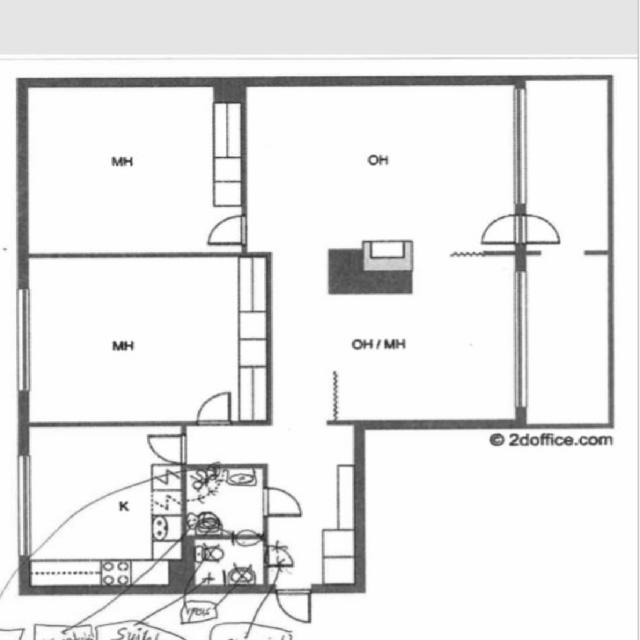door: (476, 211, 565, 245), (140, 428, 190, 467), (258, 483, 306, 521), (191, 388, 235, 428), (201, 212, 251, 246), (273, 587, 314, 624), (260, 544, 294, 570)
window: (506, 267, 536, 414), (505, 85, 535, 214), (6, 280, 36, 400), (9, 451, 38, 561)
zone: (245, 244, 520, 425), (239, 85, 525, 245), (21, 253, 271, 426), (23, 85, 247, 258), (22, 420, 181, 594), (185, 465, 267, 535), (187, 535, 266, 590)
